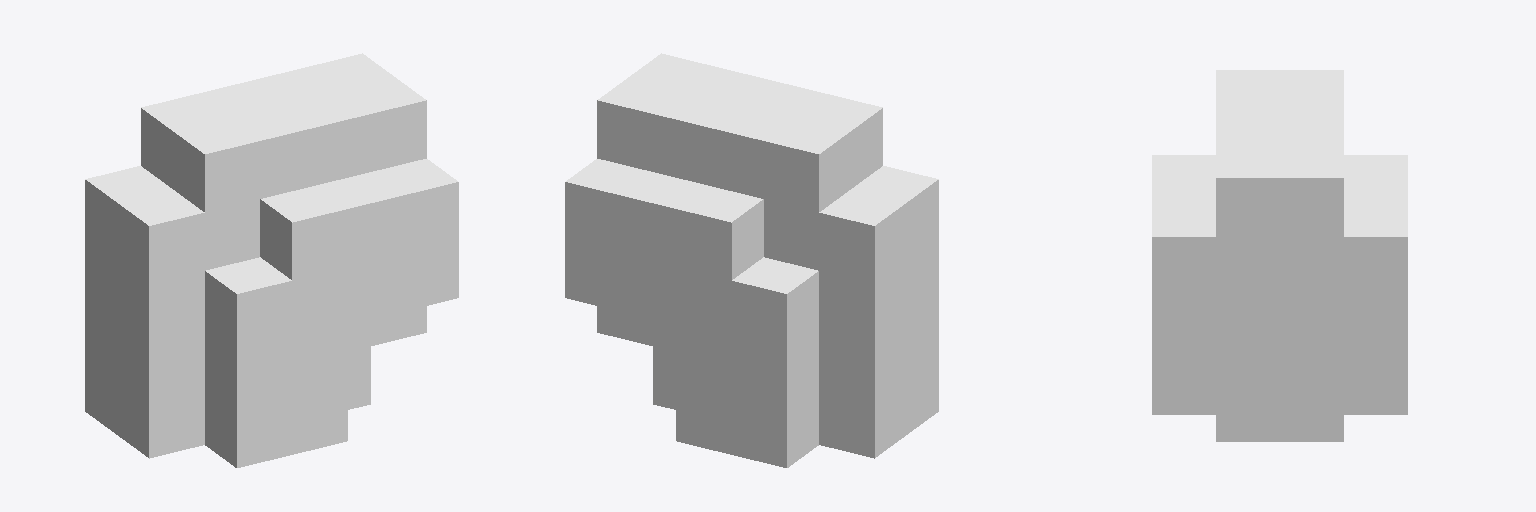
Rendered from red_elbow.obj.
3 renders of one model, left to right at view 1: azimuth 30°, elevation 25°; view 2: azimuth 150°, elevation 25°; view 3: azimuth 270°, elevation 25°, orthographic.
Visible parts, largest first — view 1: object 1; view 2: object 1; view 3: object 1.
Part boxes in pixels (x1,y1,x2,y2): object 1: (85, 53, 458, 467); object 1: (565, 53, 938, 467); object 1: (1152, 70, 1407, 441).
Bounding box in the file's own units: 0.5 × 0.5 × 0.4.